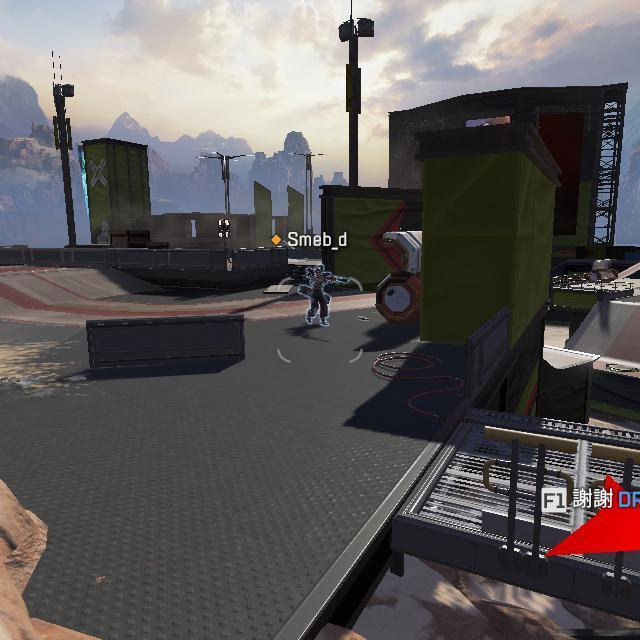avatar: (305, 264, 334, 328)
